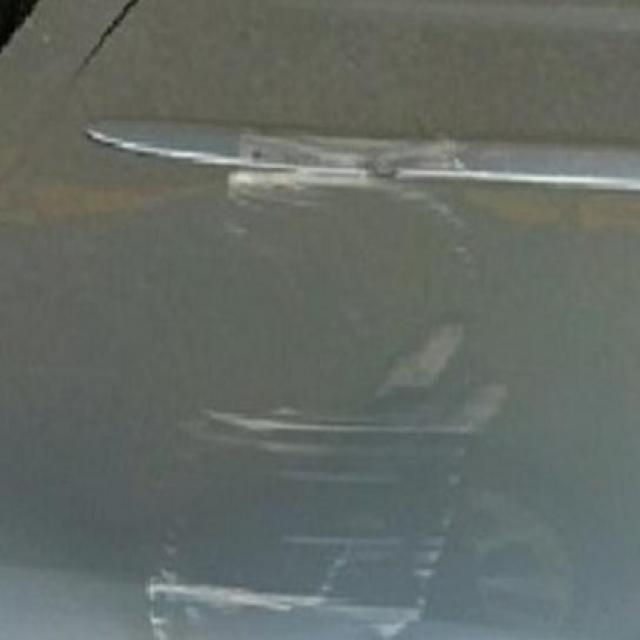scratch: (74, 107, 519, 640)
